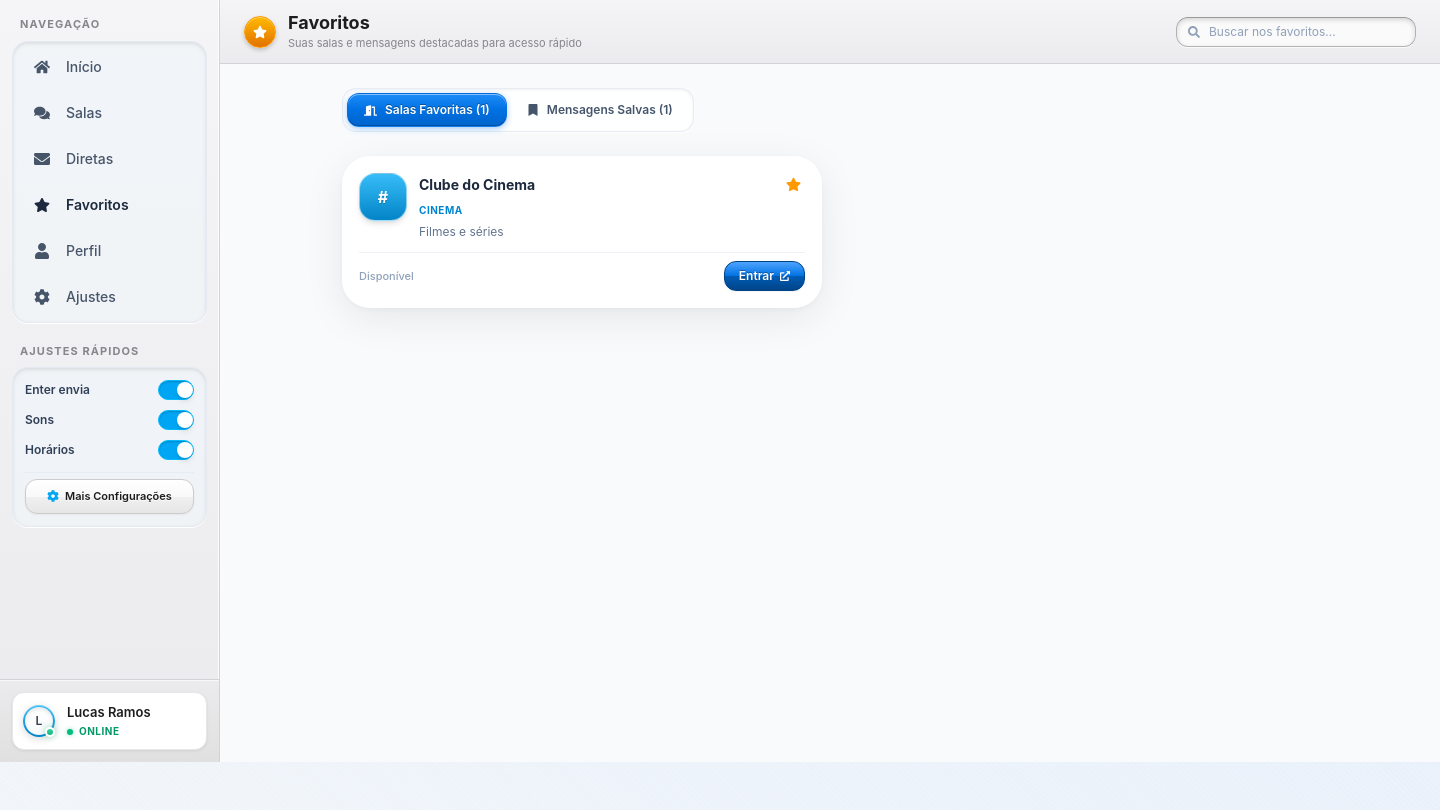
Test case: Favorites Page Tests › carrega favoritos diretamente do backend
Expected: the heading "Clube do Cinema" is shown, [419,174,535,194]
Click the button "Mensagens Salvas (1)": (600, 110) [511,94,689,126]
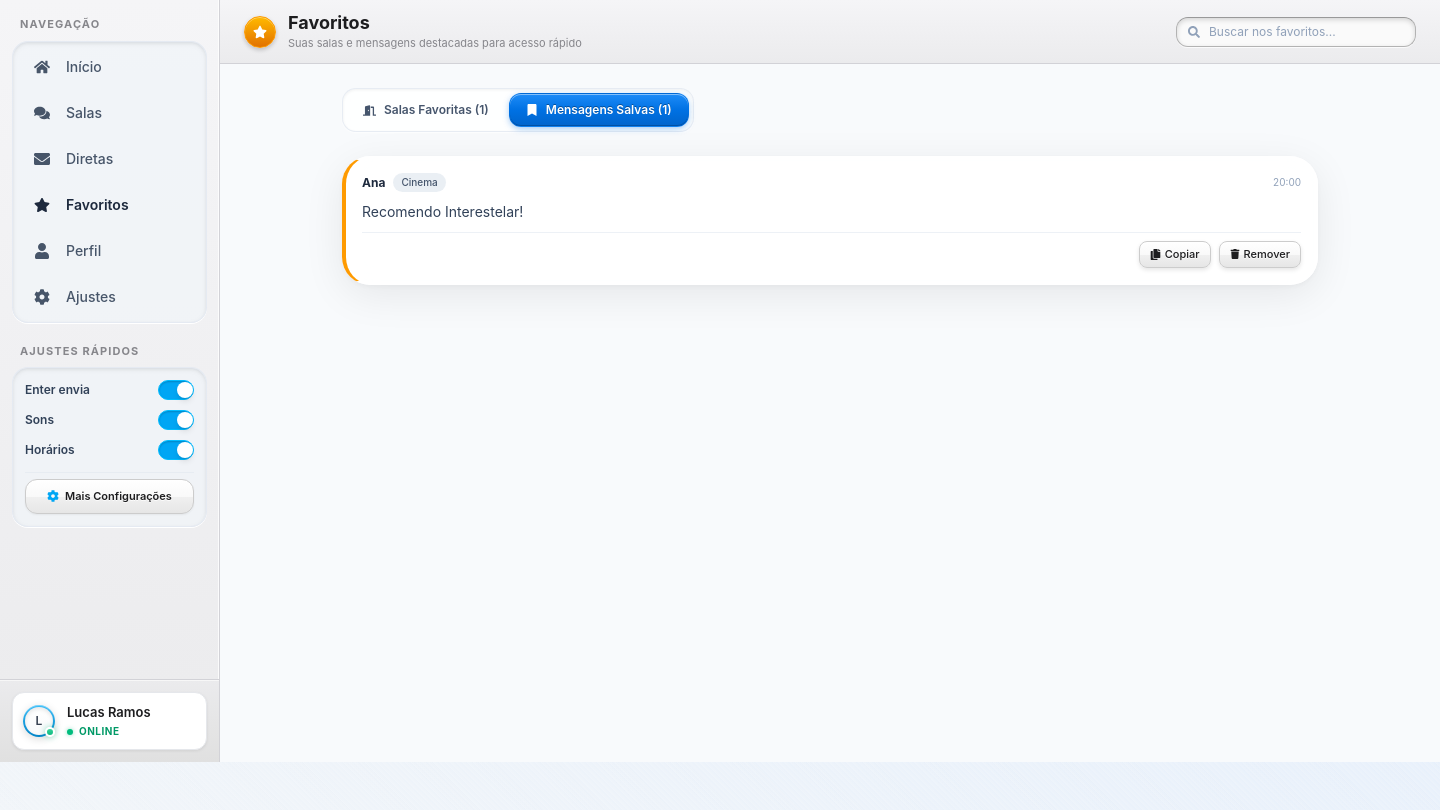
Expected: the text "Recomendo Interestelar!" is shown, [362,203,523,220]
Expected: the text "Ana" is shown, [362,174,385,190]
